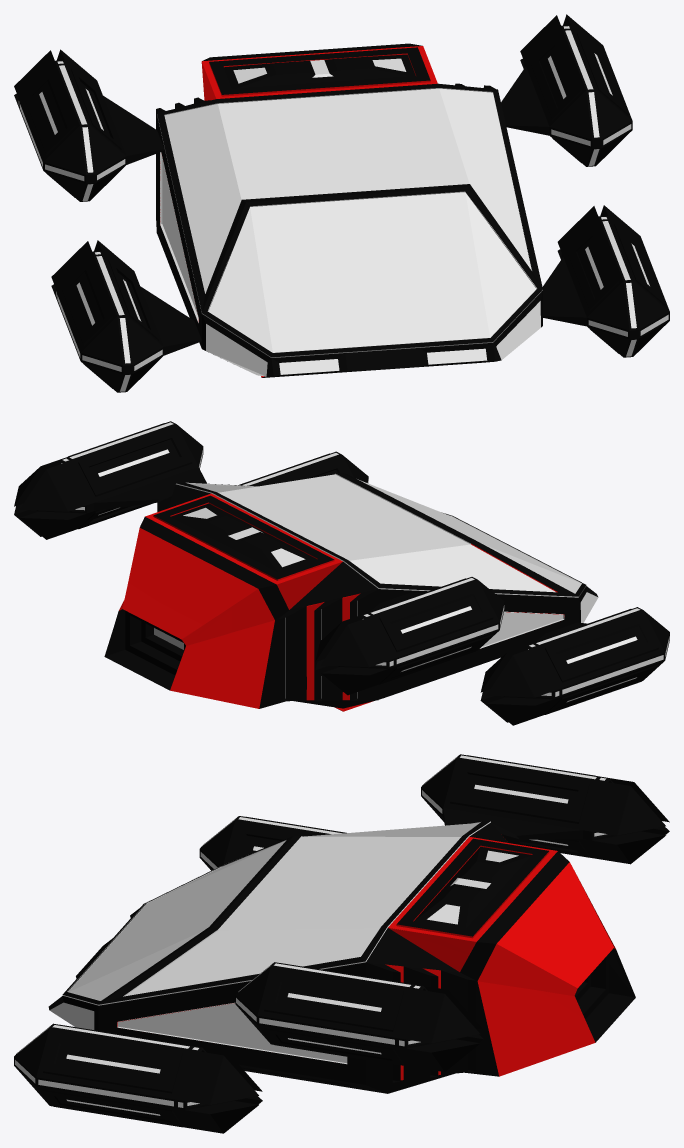
The model's file is Vente _ Vaisseau2V2.fbx.
The picture shows the model from 3 angles, top to bottom: view 1: azimuth 30°, elevation 25°; view 2: azimuth 150°, elevation 25°; view 3: azimuth 270°, elevation 25°; orthographic projection. The views are drawn at different scales.
Visible parts, largest first — view 1: r, Cube.005, Cube.003, Cube.002, Cube.007, Cube.001, Cube.006; view 2: r, Cube.002, Cube.003, Cube.007, Cube.005, Cube.001; view 3: r, Cube.007, Cube.001, Cube.003, Cube.005, Cube.002.
Part boxes in pixels (x1,y1,x2,y2): r: [156, 43, 542, 377]; Cube.005: [202, 187, 542, 357]; Cube.003: [14, 49, 164, 201]; Cube.002: [51, 240, 201, 392]; Cube.007: [501, 14, 632, 166]; Cube.001: [542, 205, 669, 357]; Cube.006: [341, 348, 421, 372]; r: [104, 472, 598, 711]; Cube.002: [480, 607, 669, 725]; Cube.003: [315, 577, 504, 695]; Cube.007: [14, 421, 206, 539]; Cube.005: [343, 473, 586, 596]; Cube.001: [238, 451, 368, 486]; r: [48, 821, 635, 1093]; Cube.007: [235, 962, 483, 1071]; Cube.001: [14, 1023, 262, 1133]; Cube.003: [421, 754, 669, 864]; Cube.005: [62, 836, 293, 1004]; Cube.002: [199, 816, 346, 870].
Size of what is drawn, in the model's own units: 1300 by 387 by 1181.
